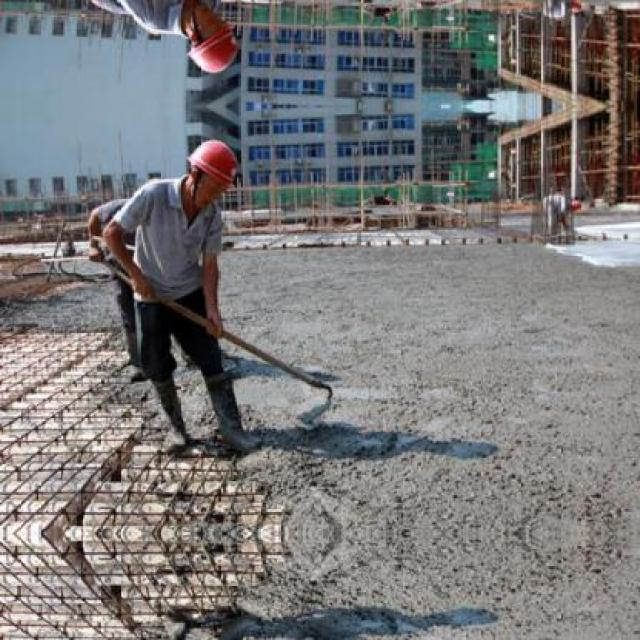helmet: (182, 139, 236, 208), (182, 4, 236, 73), (570, 198, 584, 212), (570, 1, 584, 14)
